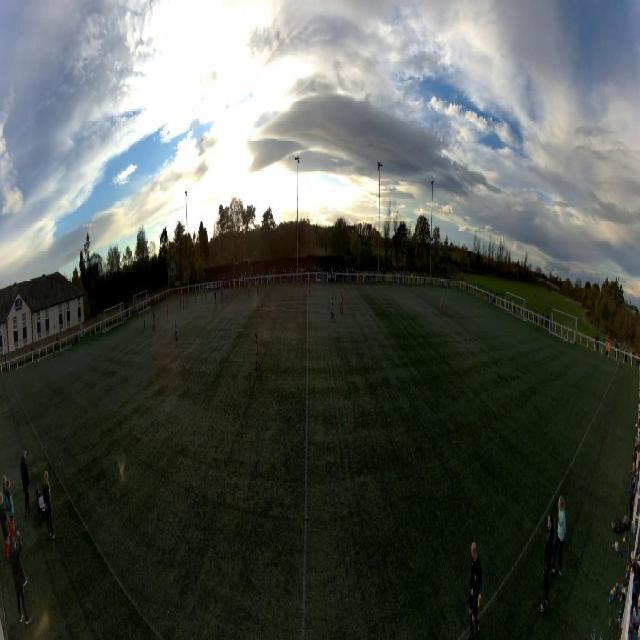ball: (202, 296, 203, 300)
player: (255, 332, 260, 370), (330, 296, 334, 321), (175, 319, 178, 345), (340, 290, 343, 314), (261, 294, 264, 318), (440, 296, 443, 315), (248, 282, 251, 298), (225, 288, 228, 303), (221, 287, 224, 301), (144, 311, 146, 331), (309, 278, 311, 297), (167, 304, 169, 322), (200, 286, 203, 298), (214, 290, 216, 307), (153, 311, 155, 328), (257, 278, 259, 294), (182, 294, 184, 308), (124, 311, 126, 325), (205, 288, 207, 299), (195, 291, 197, 302), (245, 283, 247, 293), (180, 293, 181, 308), (187, 294, 188, 306)
